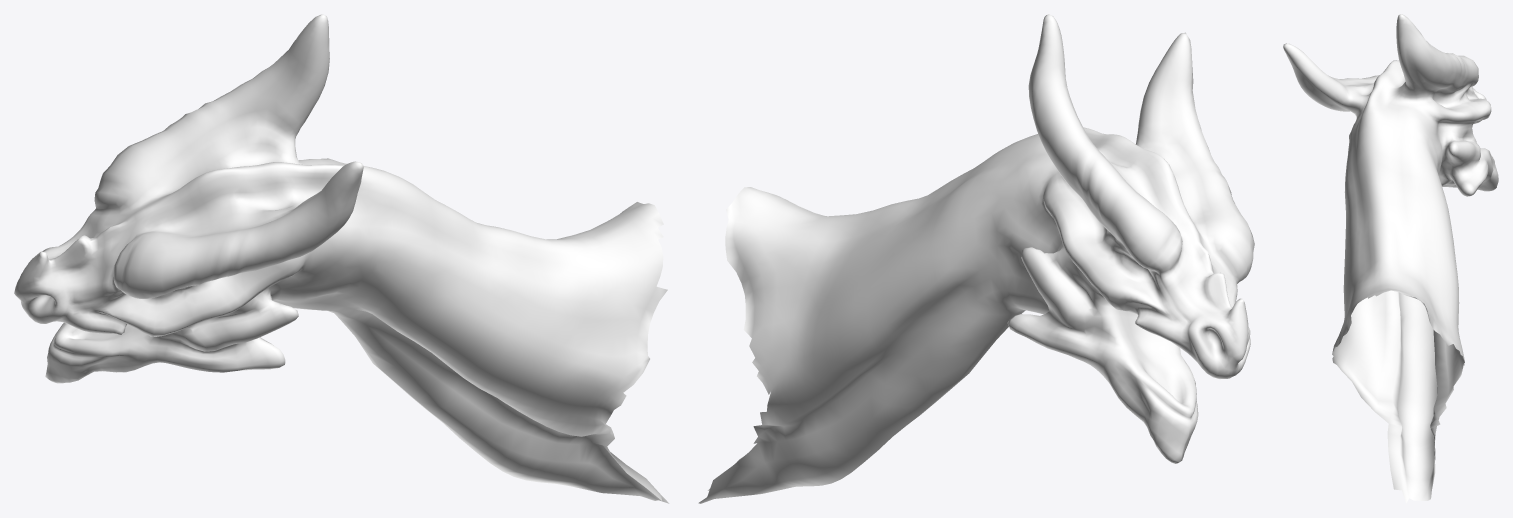
Rendered from cabeza_medio.obj.
3 renders of one model, left to right at view 1: azimuth 30°, elevation 25°; view 2: azimuth 150°, elevation 25°; view 3: azimuth 270°, elevation 25°, orthographic. The views are drawn at different scales.
Parts seen in each view (by area): view 1: cabeza_medio; view 2: cabeza_medio; view 3: cabeza_medio.
Part boxes in pixels (left/top/right/bottom): cabeza_medio: left=14, top=14, right=669, bottom=503; cabeza_medio: left=698, top=14, right=1254, bottom=503; cabeza_medio: left=1283, top=14, right=1498, bottom=503.
Size of the model in its own units: 3.17 by 2.89 by 1.49.
Materials: 1 (1 with a texture image).
